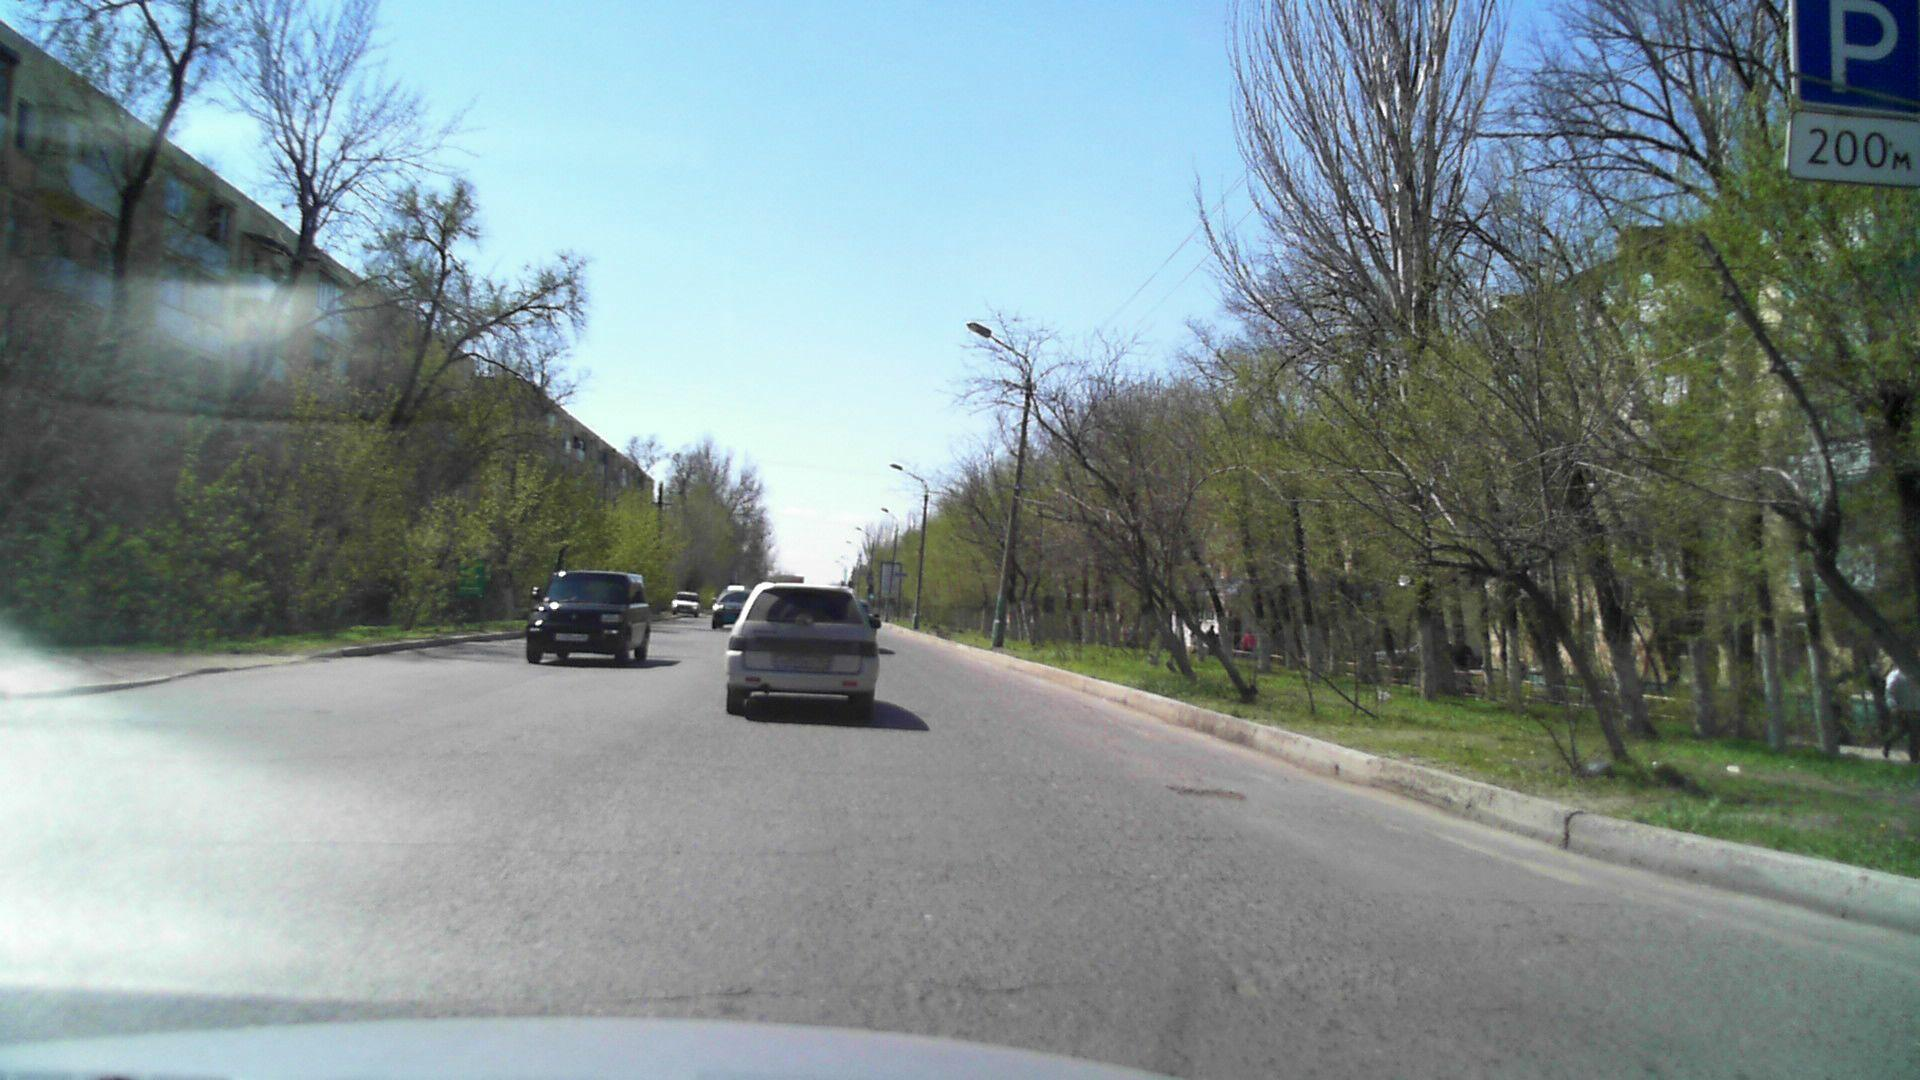6_4: (1784, 0, 1919, 103)
8_1_1: (1791, 116, 1920, 191)
